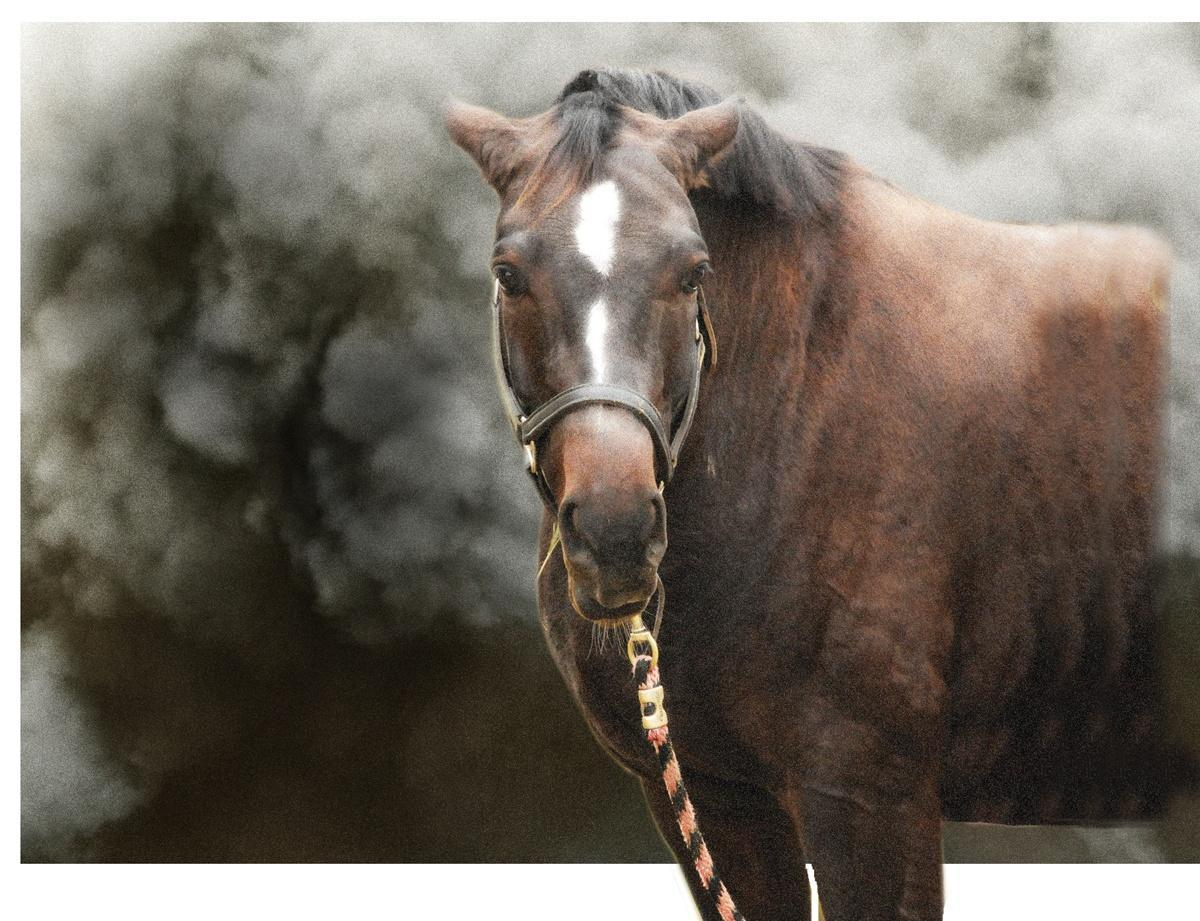horse: (420, 56, 1166, 921)
